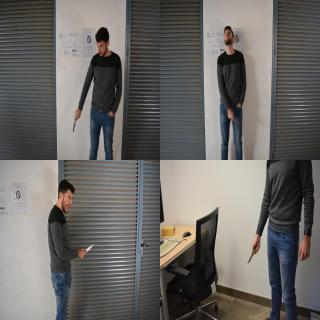knife: (247, 242, 260, 264), (230, 116, 242, 130), (82, 242, 94, 255), (72, 113, 78, 133)
